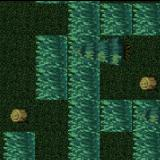Obstacle: (3, 98, 36, 131), (100, 35, 132, 67), (132, 68, 160, 99)
Slow: (68, 3, 100, 160), (100, 98, 160, 132), (36, 34, 67, 99), (99, 3, 160, 34), (2, 132, 35, 160), (132, 132, 160, 160), (36, 0, 100, 3)
